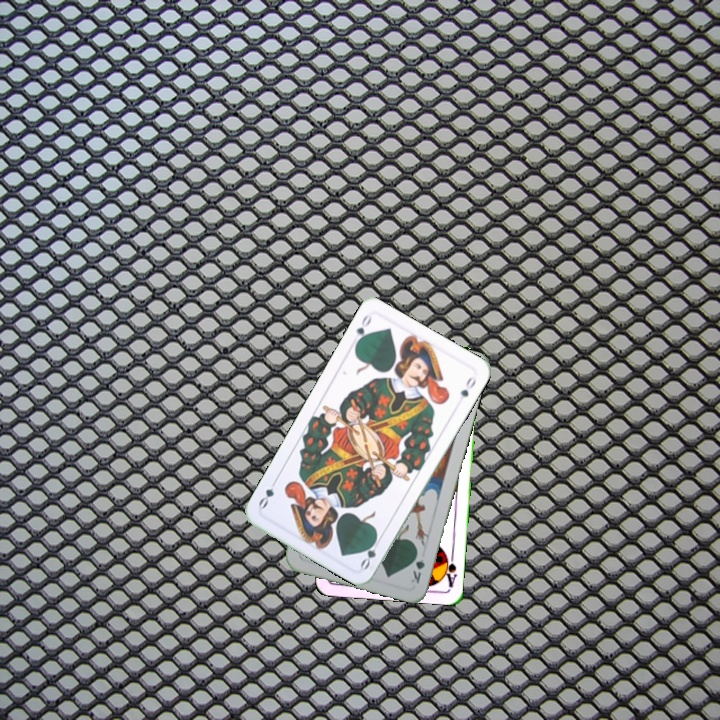GK: (407, 546, 428, 586)
GO: (356, 532, 383, 572), (347, 311, 374, 349)
SA: (440, 548, 460, 589)
